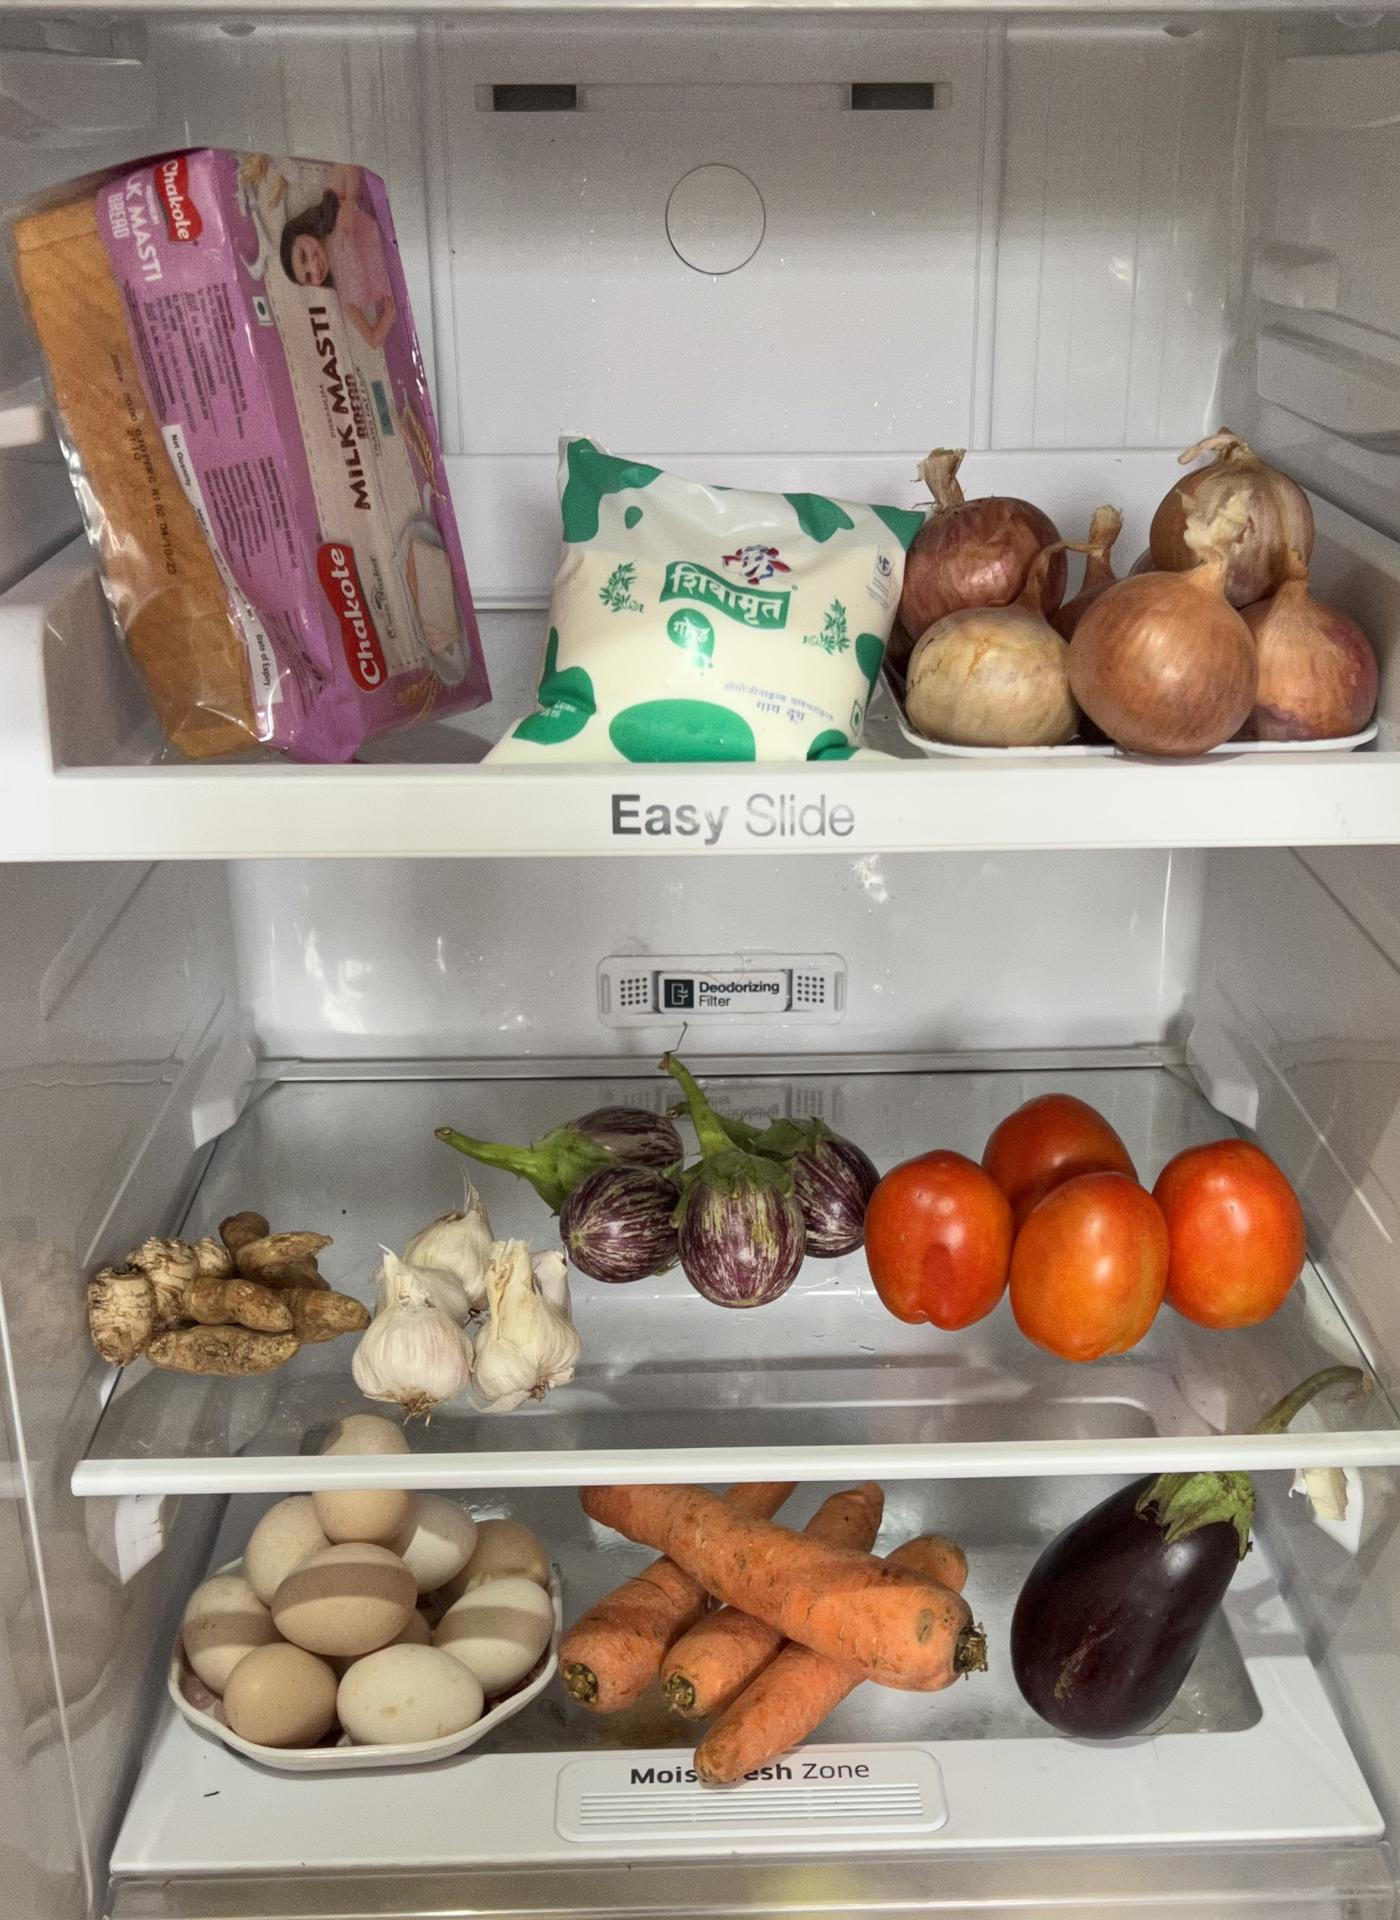bread: (12, 139, 489, 760)
carrots: (564, 1483, 1009, 1783)
egg: (165, 1495, 546, 1758)
garlic: (368, 1199, 576, 1412)
ginger: (67, 1197, 358, 1394)
milk: (507, 441, 901, 766)
onion: (909, 441, 1382, 759)
tomato: (877, 1088, 1303, 1360)
